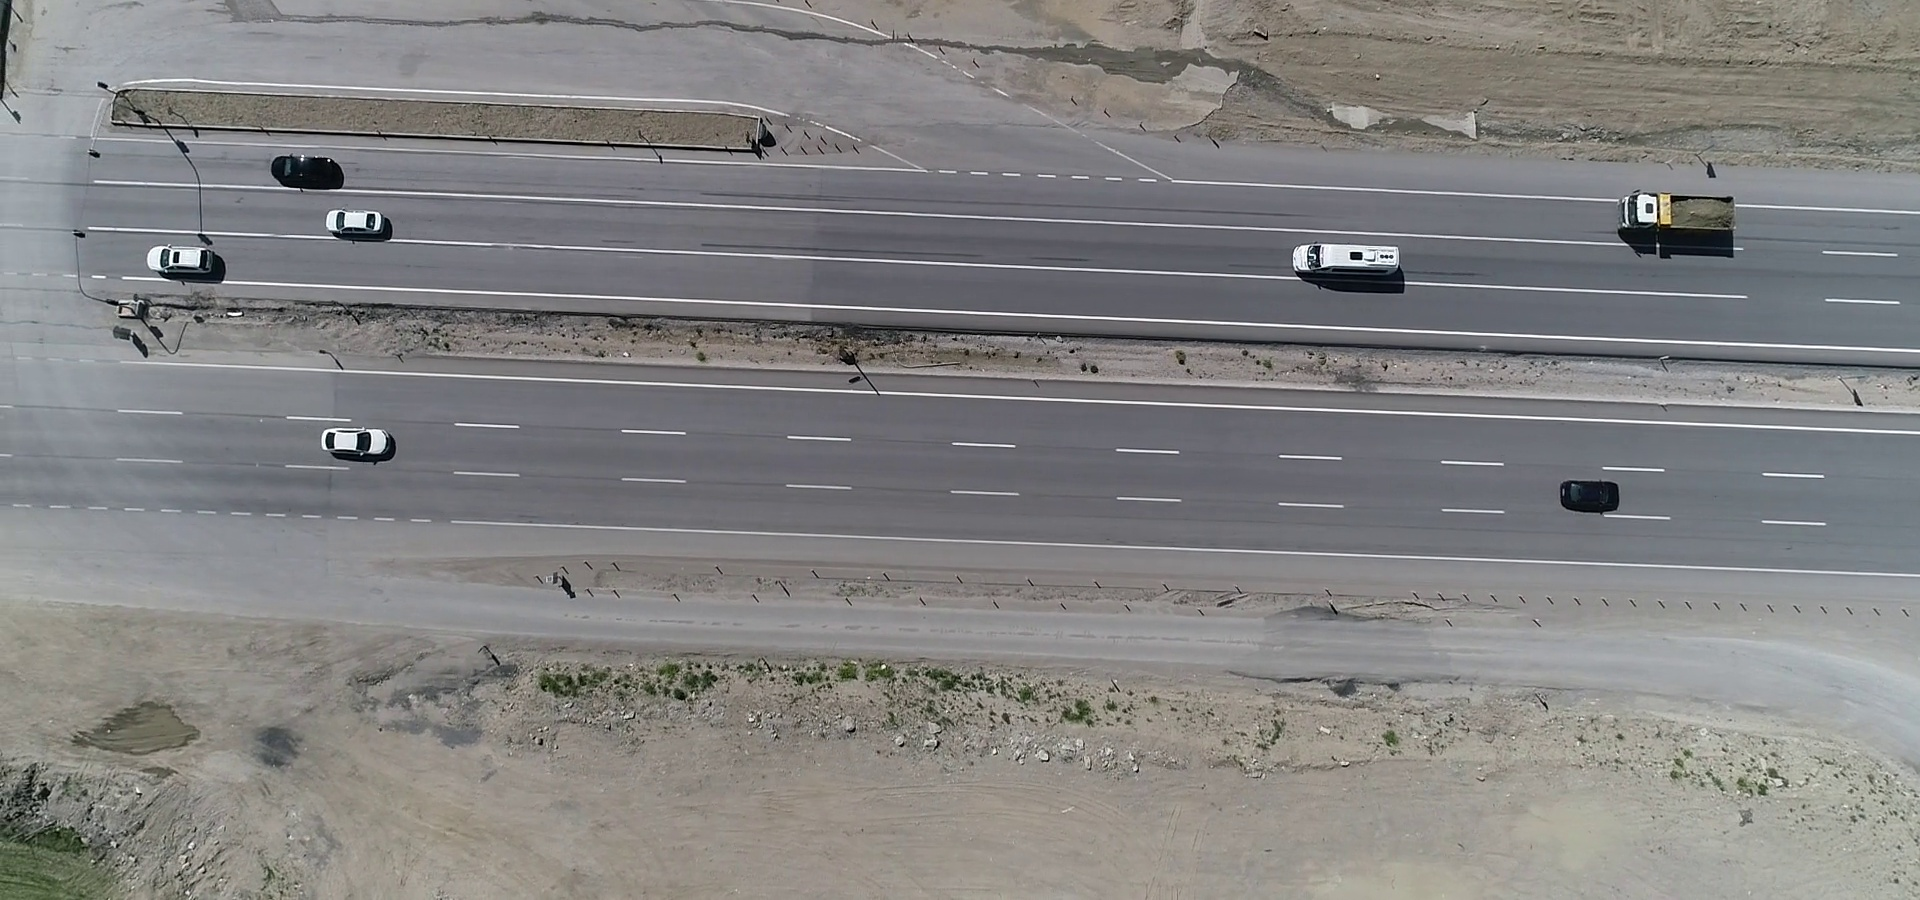araba: (305, 419, 408, 467), (1555, 463, 1626, 527), (269, 144, 358, 191), (140, 235, 225, 283), (316, 200, 398, 242)
kamyon: (1614, 189, 1746, 247)
otobus: (1289, 229, 1417, 291)
